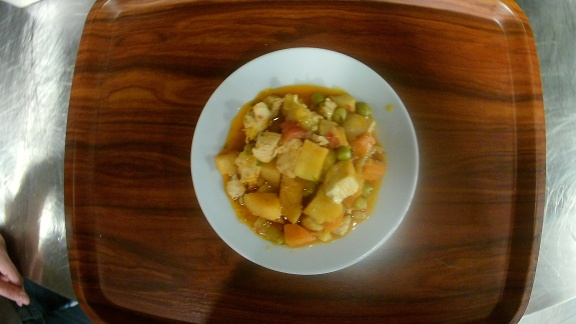bezelyelitavuk: (187, 45, 422, 279)
